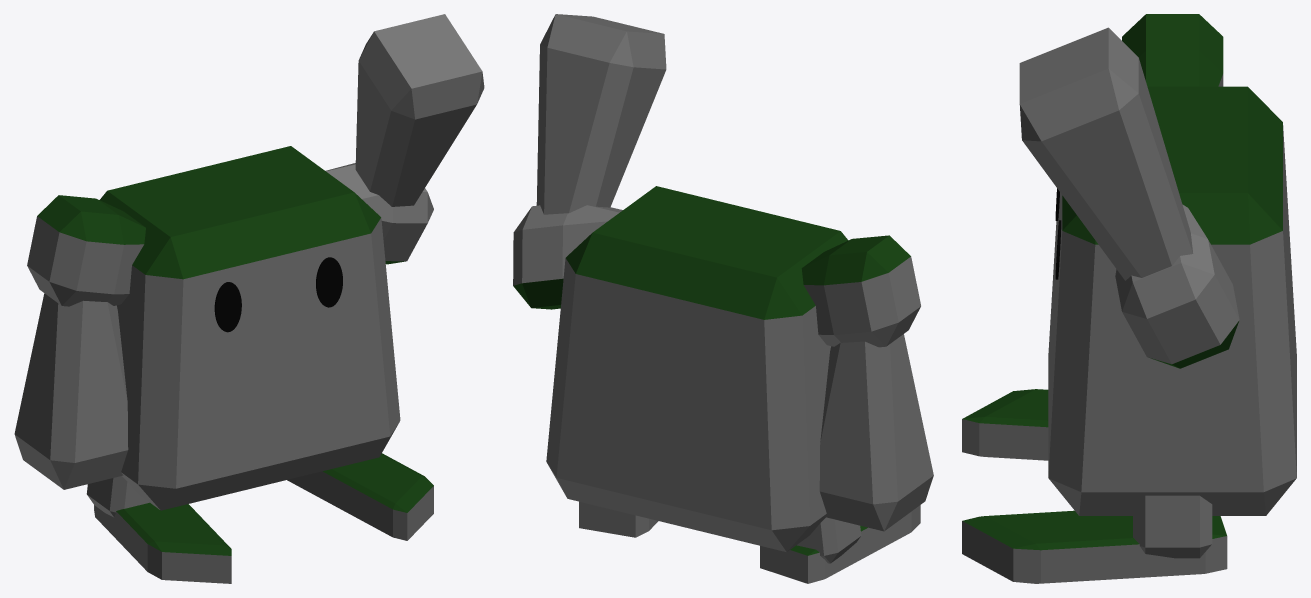
The model's file is golemArm3.fbx.
3 views of the same model, side by side, from view 1: azimuth 30°, elevation 25°; view 2: azimuth 150°, elevation 25°; view 3: azimuth 270°, elevation 25° (orthographic). The views are drawn at different scales.
Visible parts, largest first — view 1: Cube.051; view 2: Cube.051; view 3: Cube.051.
Part boxes in pixels (x1,y1,x2,y2): Cube.051: (14,14,484,583); Cube.051: (513,14,933,583); Cube.051: (962,14,1296,583).
Size of the model in its own units: 436 by 484 by 269.
